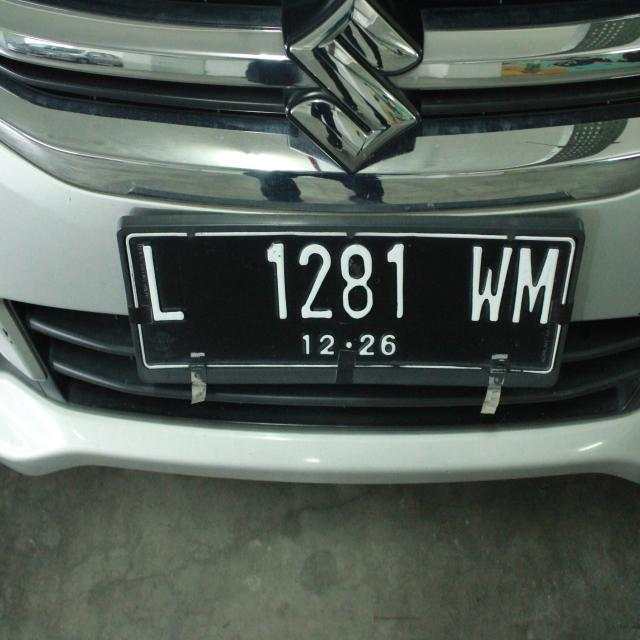1: (374, 234, 420, 334), (258, 231, 300, 327)
2: (295, 233, 338, 324)
8: (334, 234, 378, 327)
L: (133, 240, 194, 338)
M: (510, 232, 562, 341)
W: (456, 230, 516, 336)
